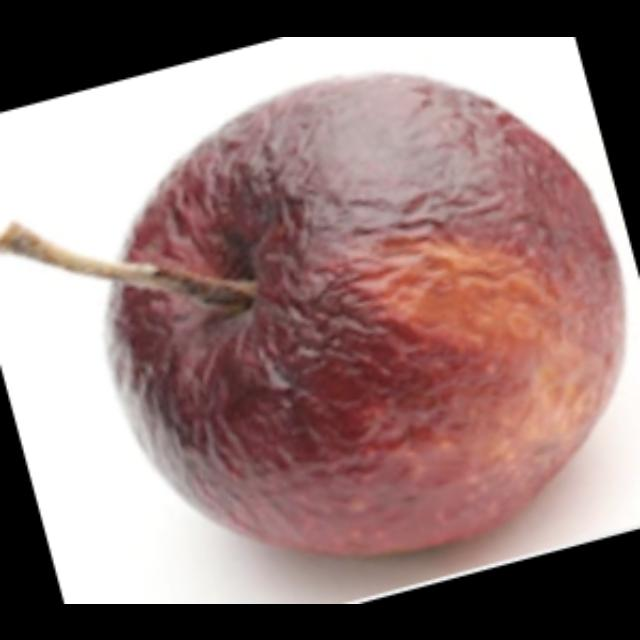Apel Tidak Segar: (104, 58, 628, 550)
